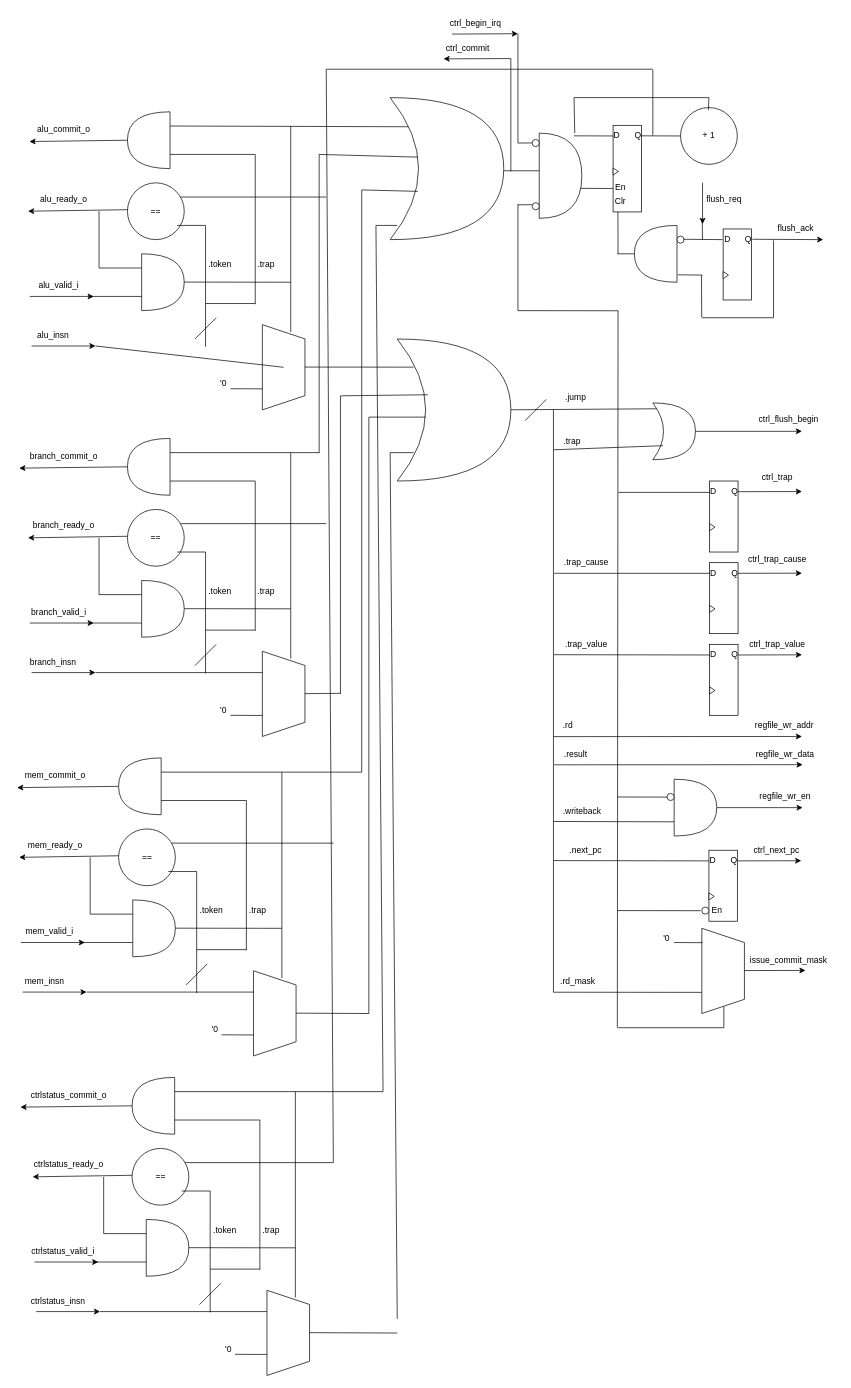
Image size: 851x1388. Some labels were removed from this diagram. The box of each missing label's shape, as (x1, y1, x2, y2) in pixels:
accept: (389, 97, 504, 240)
insn: (397, 338, 511, 481)
Token 16b: (612, 125, 641, 212)
